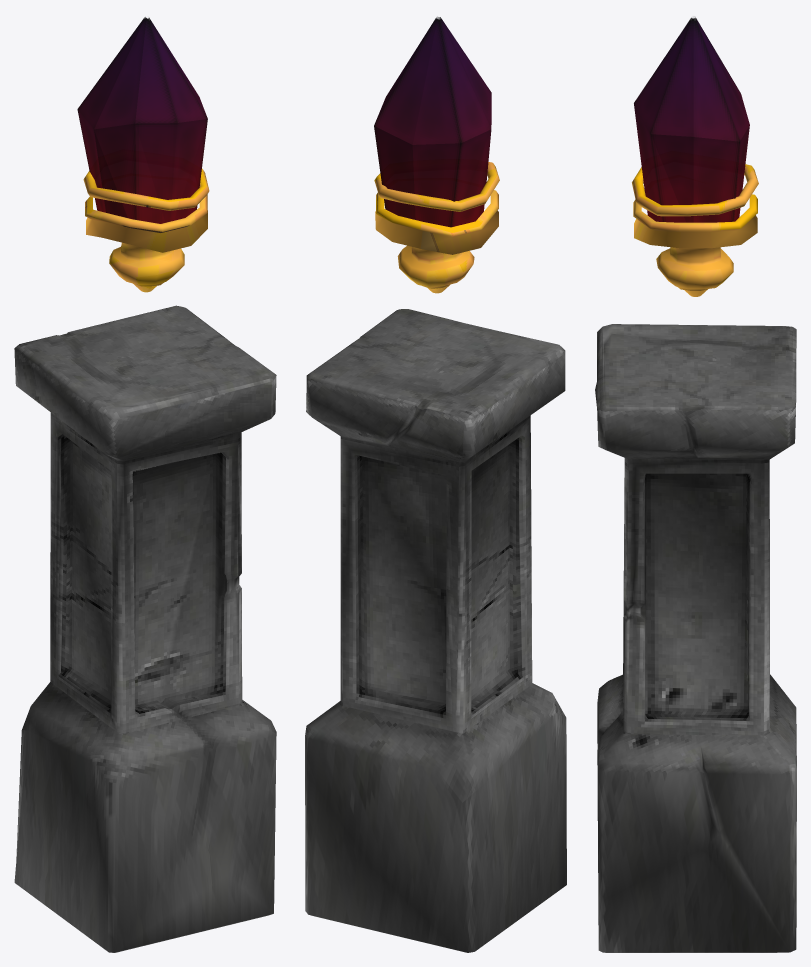
Rendered from Pedestal.gltf.
3 views of the same model, side by side, from view 1: azimuth 30°, elevation 25°; view 2: azimuth 150°, elevation 25°; view 3: azimuth 270°, elevation 25° (orthographic).
Visible parts, largest first — view 1: defaultMaterial, Cube001, Torus; view 2: defaultMaterial, Cube001, Torus; view 3: defaultMaterial, Cube001, Torus.
Part boxes in pixels (bbox=[...]): defaultMaterial: bbox=[14, 305, 276, 952]; Cube001: bbox=[77, 17, 207, 223]; Torus: bbox=[83, 168, 209, 292]; defaultMaterial: bbox=[305, 309, 566, 952]; Cube001: bbox=[374, 17, 491, 227]; Torus: bbox=[374, 162, 499, 293]; defaultMaterial: bbox=[595, 324, 796, 952]; Cube001: bbox=[634, 17, 749, 222]; Torus: bbox=[632, 164, 758, 296].
Size of the model in its own units: 1.45 by 7.19 by 1.46.
3 materials, 3 textured.
